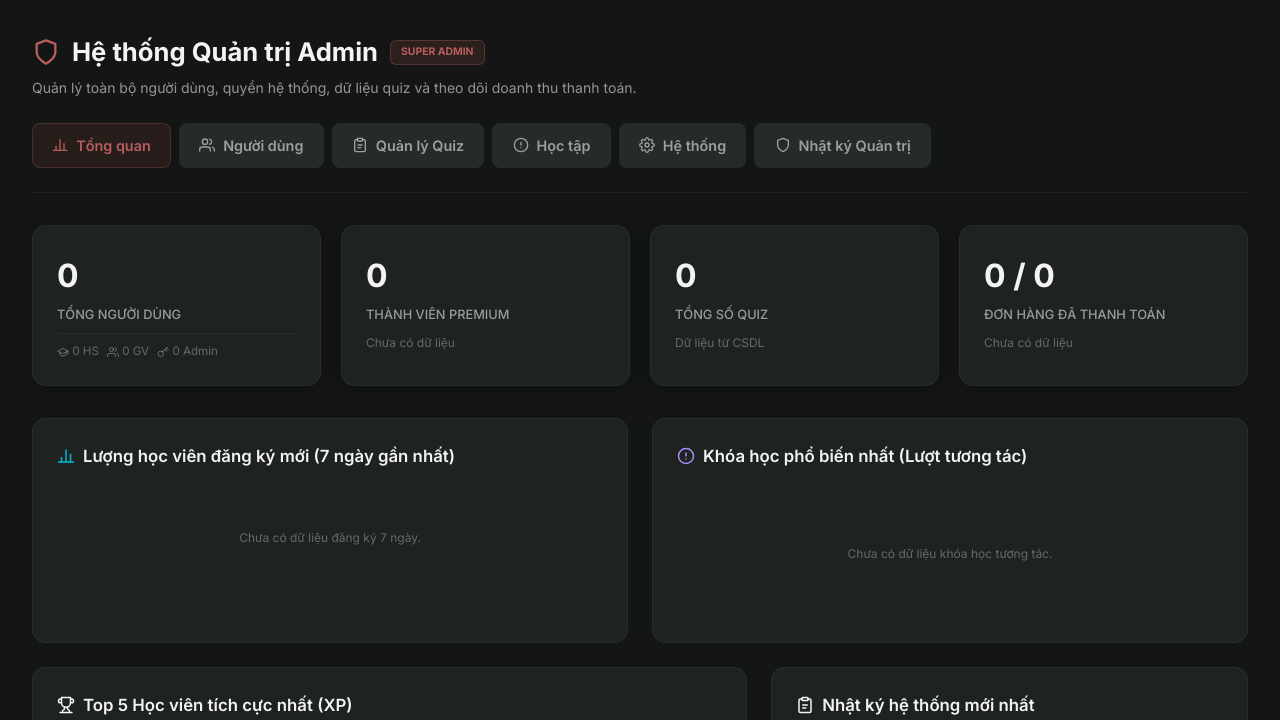
Test: AdminPanelView — P2 Tests › US-ADM-006: Create user — Form tạo tài khoản › opens create user modal when clicking "Tạo tài khoản" button
Click the tab with class "tab-btn" showing "Người dùng" at coordinates (251, 145), box 179,123 -> 324,168
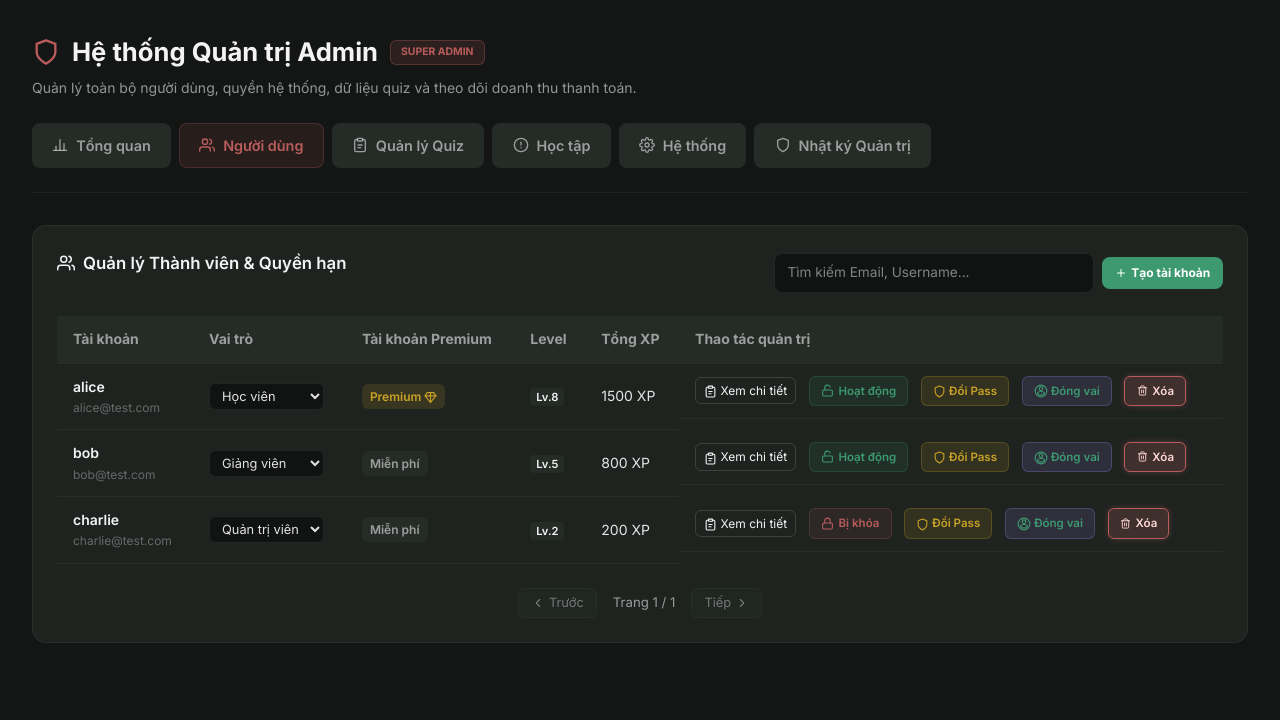
Result: the button with class "btn-create-user" is shown
Click the button with class "btn-create-user" at coordinates (1163, 273), box 1102,257 -> 1223,289
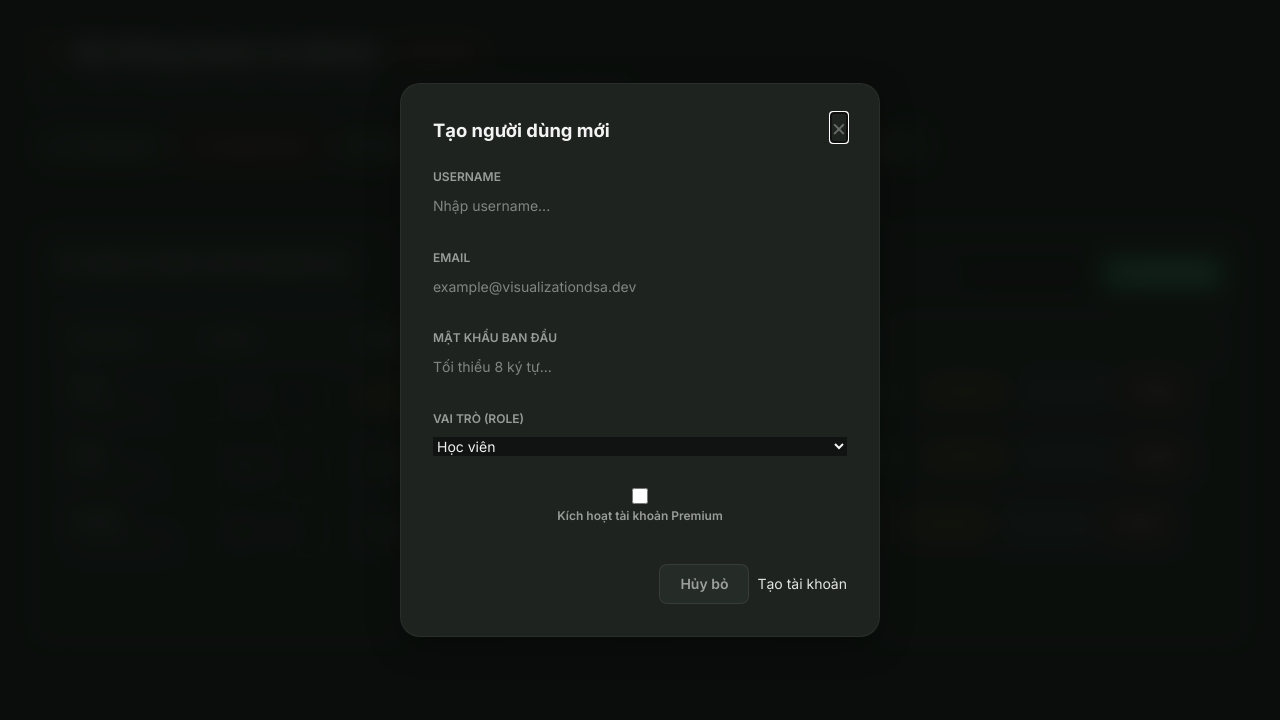
Result: the text "Tạo người dùng mới" is shown at 433,116 -> 610,145
